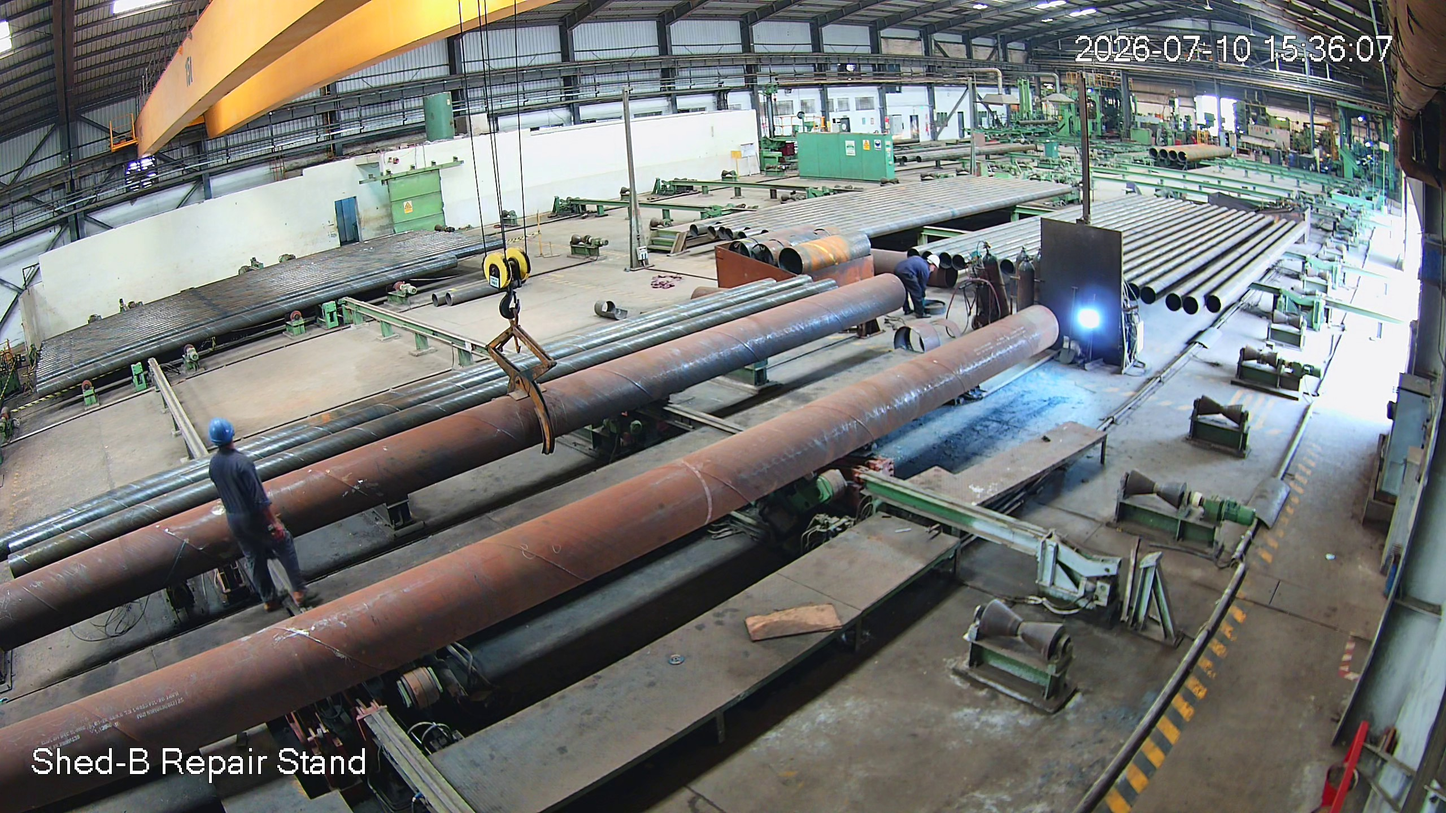Helmet: (203, 406, 260, 475), (920, 247, 956, 286)
Person: (195, 413, 326, 630), (891, 252, 950, 317)
